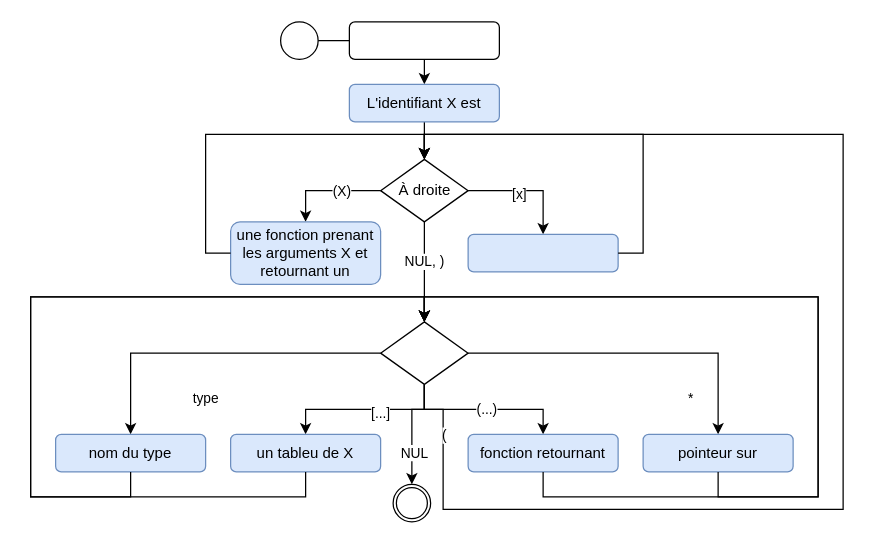
Some shapes in this 875 by 544 pixel diagram are drawn without their labels. Here are the shapes that lost their labels. From the top down, the centre of each, then its label:
At (x=423, y=40): "Chercher l'identifiant".
At (x=542, y=252): "un tableau de X".
At (x=423, y=352): "À gauche".
